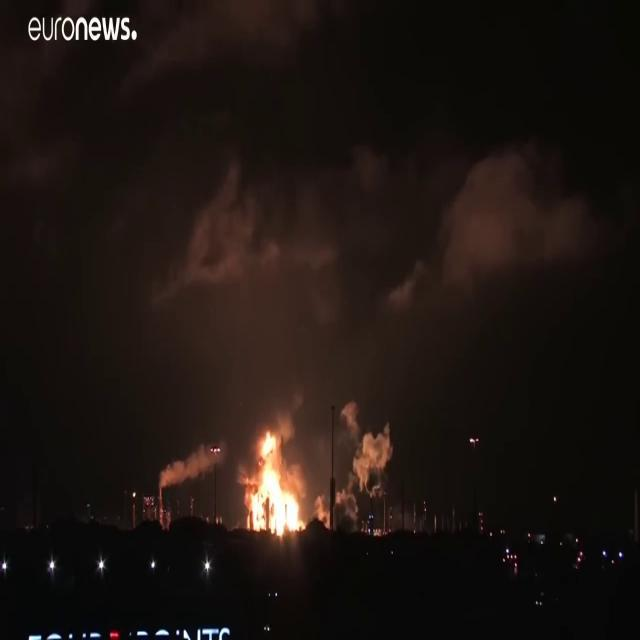Fire: (240, 428, 306, 540)
